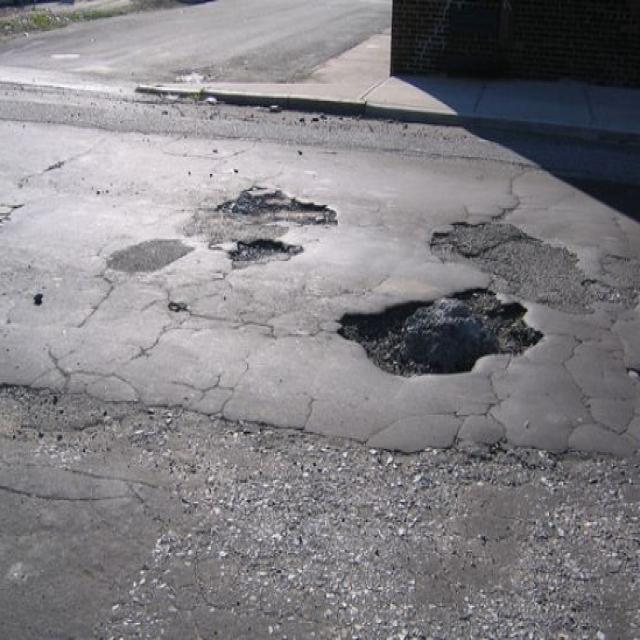pothole: (334, 280, 546, 380), (216, 176, 346, 228), (227, 228, 303, 268)
